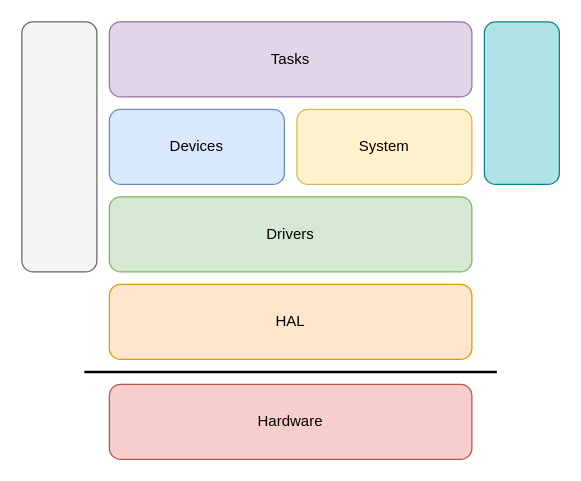
The diagram is 581 pixels wide and 481 high, and some of its shapes have lost their labels. The shapes that lost their labels are listed below. From the top down, each one's box as (x1, y1, x2, y2) in pixels, then its label:
(483, 21, 559, 184): Libraries
(21, 21, 97, 272): RTOS
